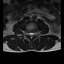CCS_normal: (30, 31, 32, 40)
LFS_normal: (34, 30, 36, 37)
LLS_normal: (32, 31, 34, 37)
RFS_normal: (26, 30, 28, 37)
RLS_normal: (28, 31, 30, 38)
